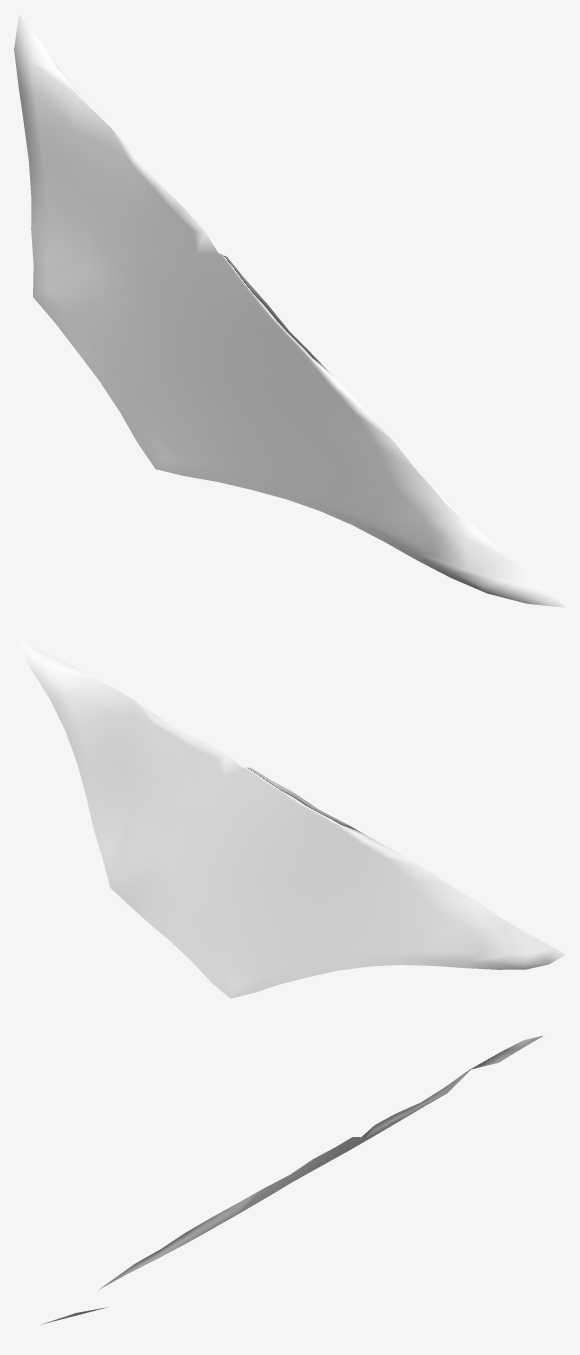
Rendered from Pants_Pocket_Decor_Left_V2.glb.
3 renders of one model, top to bottom at view 1: azimuth 90°, elevation 25°; view 2: azimuth 150°, elevation 25°; view 3: azimuth 270°, elevation 25°, orthographic.
Parts seen in each view (by area): view 1: Pants_Main6_1.001; view 2: Pants_Main6_1.001; view 3: Pants_Main6_1.001.
Boxes of the visible parts, x1=… form: Pants_Main6_1.001: x1=14, y1=14, x2=565, y2=607; Pants_Main6_1.001: x1=14, y1=636, x2=565, y2=998; Pants_Main6_1.001: x1=41, y1=1035, x2=543, y2=1324.
Bounding box in the file's own units: 0.0531 × 0.0793 × 0.0874.
Materials: 1 (1 with a texture image).
